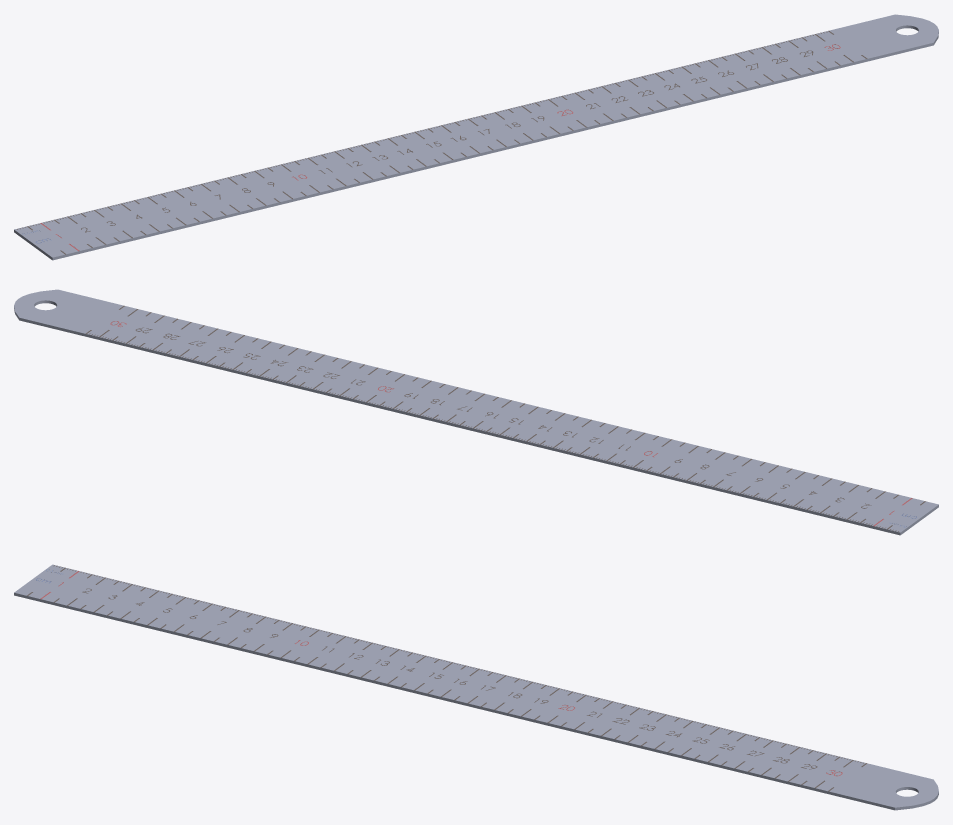
The model's file is ruler_1.glb.
The picture shows the model from 3 angles, top to bottom: view 1: azimuth 30°, elevation 25°; view 2: azimuth 150°, elevation 25°; view 3: azimuth 330°, elevation 25°; orthographic projection.
Parts seen in each view (by area): view 1: bea964ef23464c039f9fdbb6359fe66a; view 2: bea964ef23464c039f9fdbb6359fe66a; view 3: bea964ef23464c039f9fdbb6359fe66a.
Boxes of the visible parts, <box> form: bea964ef23464c039f9fdbb6359fe66a: <box>14,14,938,260</box>; bea964ef23464c039f9fdbb6359fe66a: <box>14,289,938,535</box>; bea964ef23464c039f9fdbb6359fe66a: <box>14,564,938,810</box>.
Bounding box in the file's own units: 1 × 0.00296 × 0.0741.
